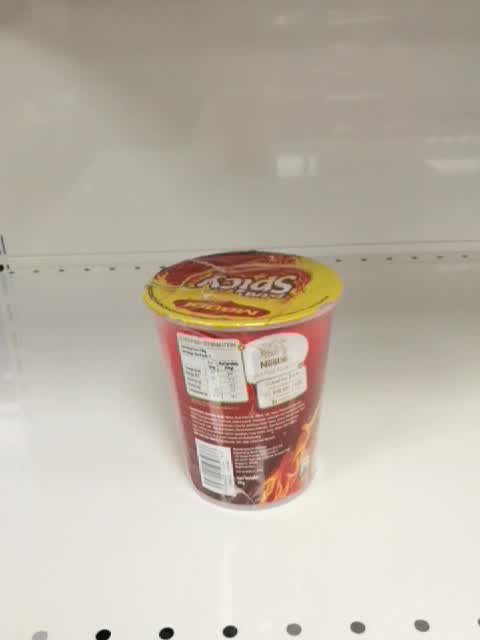maggi: (142, 249, 342, 511)
